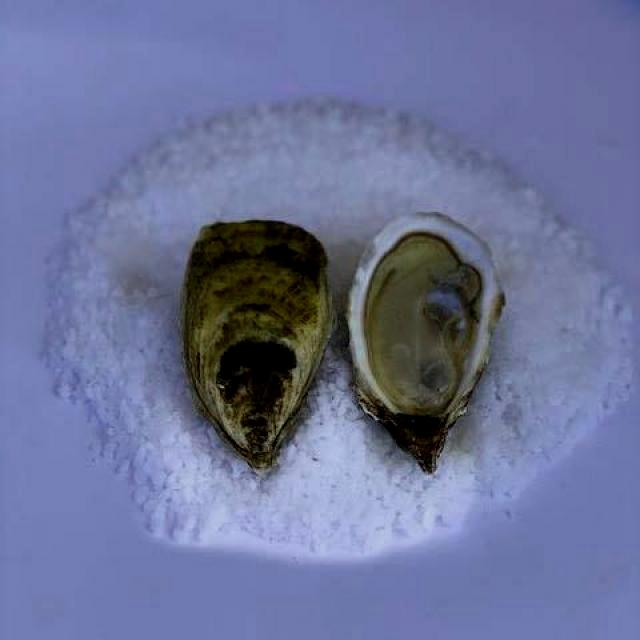Oyster-Closed: (181, 220, 333, 468)
Oyster-Open: (343, 215, 506, 476)
